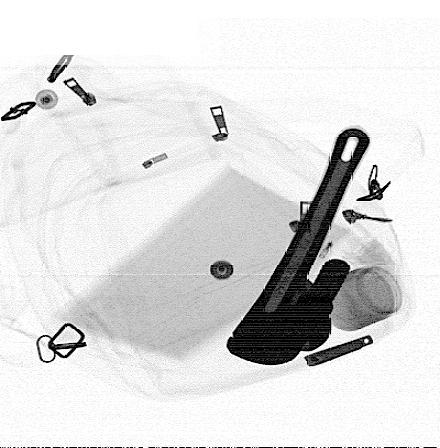Wrench: (225, 125, 372, 367)
